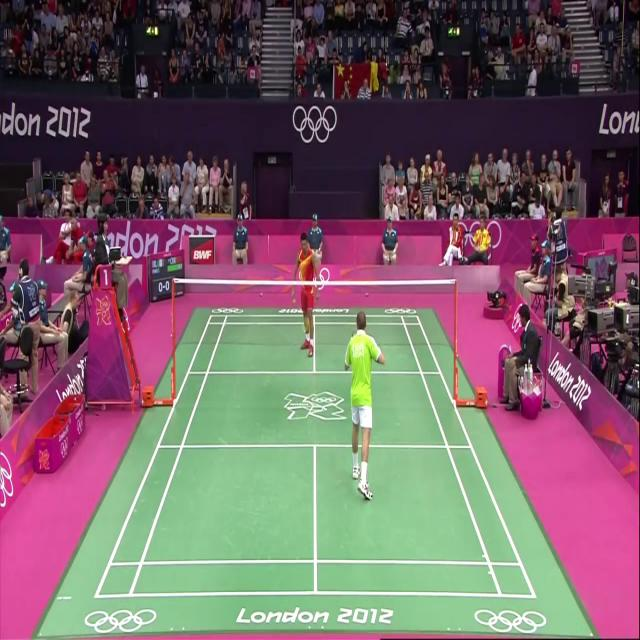Net: (171, 278, 460, 365)
Player1: (346, 288, 386, 510)
Player2: (286, 226, 324, 365)
Shuttlecock: (287, 289, 298, 309)
